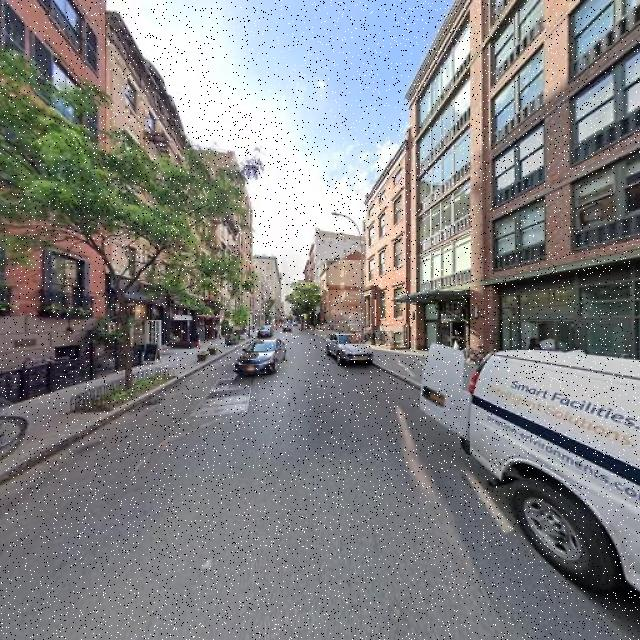Building: (412, 1, 640, 409), (1, 1, 109, 390), (114, 2, 222, 362), (367, 145, 409, 350)
